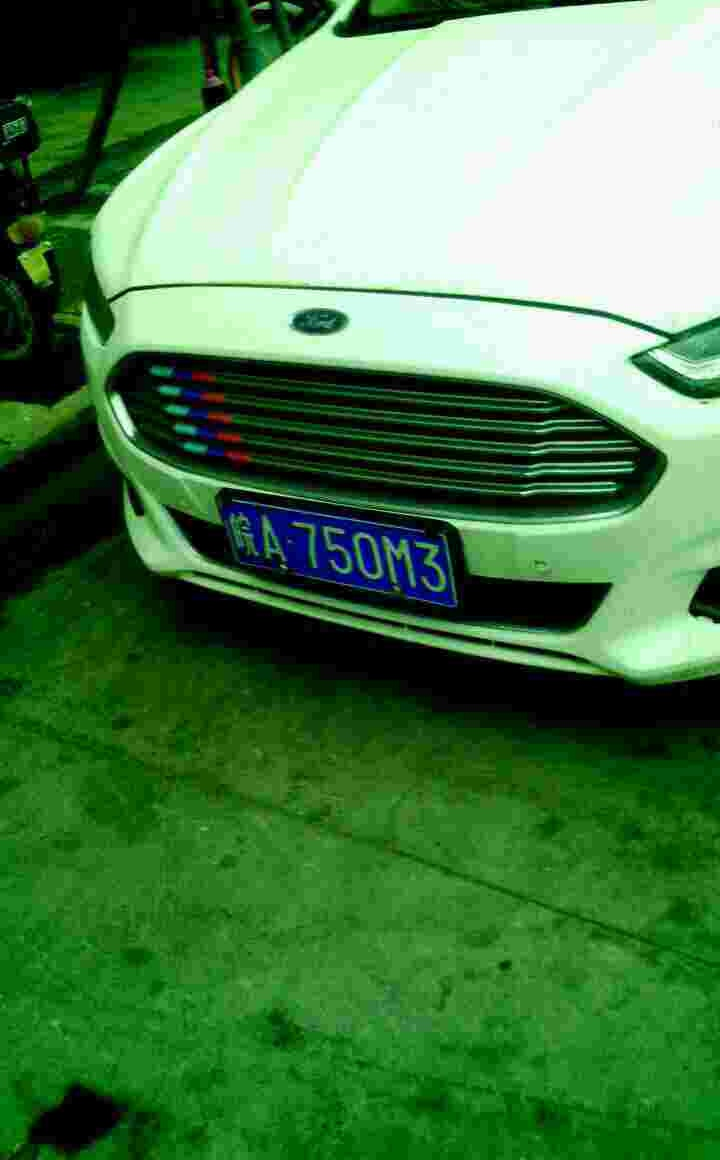license_plate: (219, 493, 475, 614)
